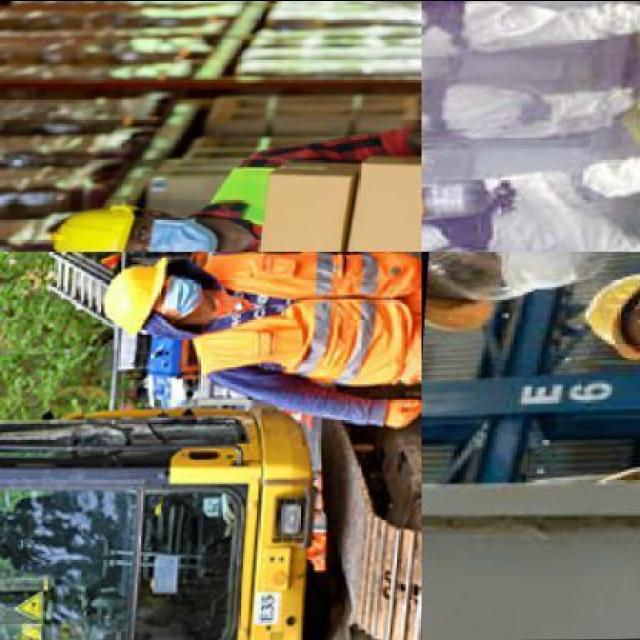helmet: (100, 249, 177, 339)
jacket: (190, 253, 414, 398)
